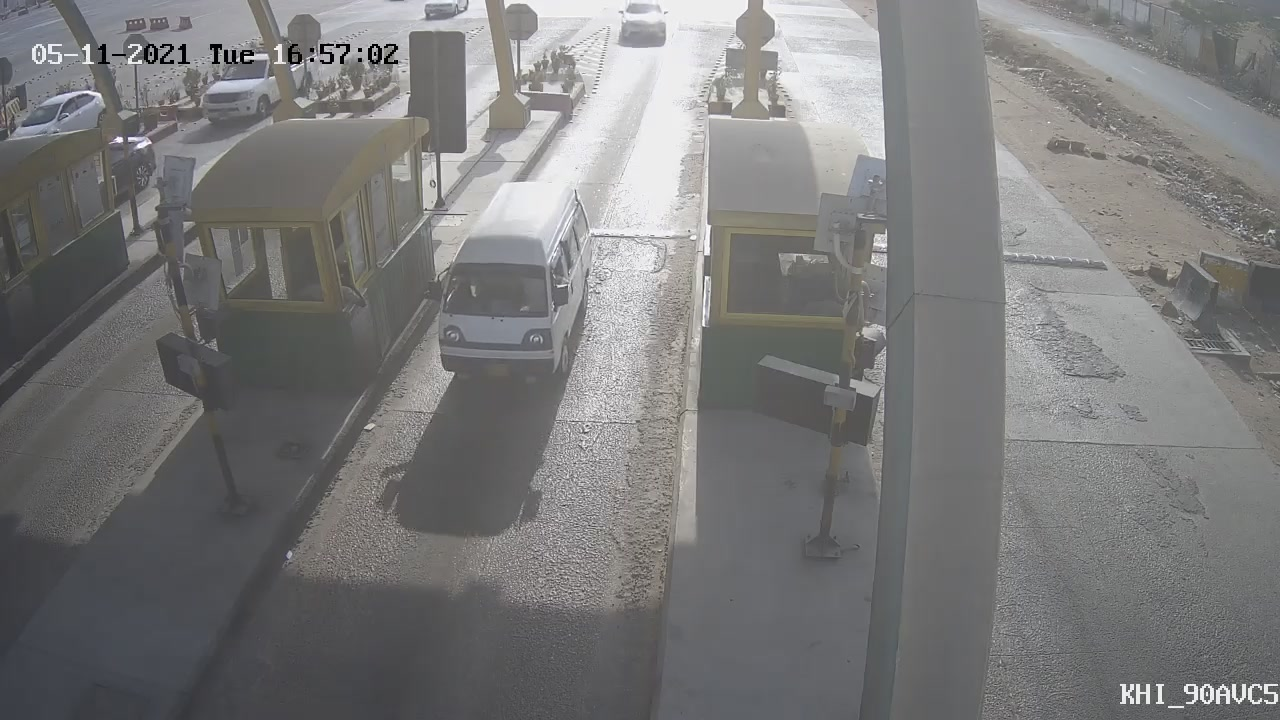F1: (404, 165, 611, 412)
